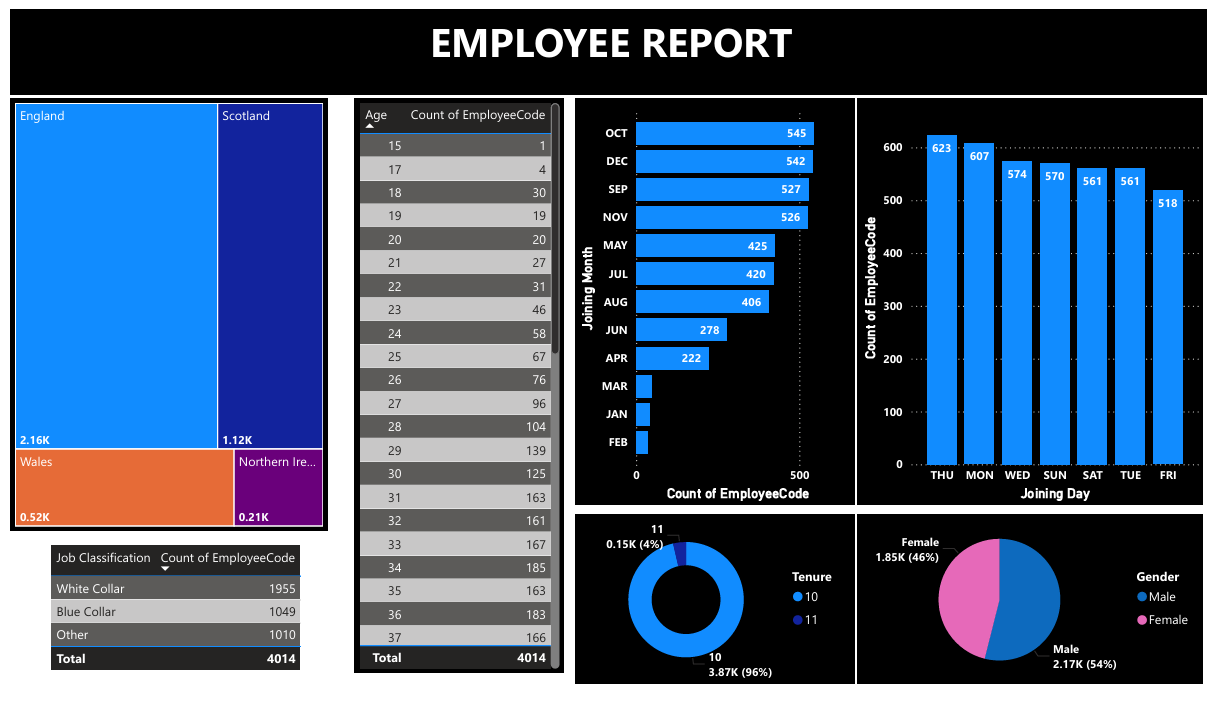

Layout of this report page (visuals, bound fields, positions):
{"tool":"powerbi","page":{"name":"Page 1","canvas":[1280,720],"ordinal":0},"visuals":[{"type":"pieChart","fields":{"Category":["Copy of Dataset_Assignmen2.Gender"],"Y":["CountNonNull(Copy of Dataset_Assignmen2.EmployeeCode)"]},"box":[902.7,538.6,368.1,181.3],"z":0},{"type":"donutChart","fields":{"Y":["CountNonNull(Copy of Dataset_Assignmen2.EmployeeCode)"],"Category":["Copy of Dataset_Assignmen2.Tenure"]},"box":[602.2,538.6,297.7,181.3],"z":1},{"type":"barChart","fields":{"Category":["Copy of Dataset_Assignmen2.Joining Month"],"Y":["CountNonNull(Copy of Dataset_Assignmen2.EmployeeCode)"]},"box":[602.2,94.7,297.7,434.4],"z":2},{"type":"columnChart","fields":{"Category":["Copy of Dataset_Assignmen2.Joining Day"],"Y":["CountNonNull(Copy of Dataset_Assignmen2.EmployeeCode)"]},"box":[902.7,94.7,368.1,434.4],"z":3},{"type":"treemap","fields":{"Group":["Copy of Dataset_Assignmen2.Region"],"Values":["CountNonNull(Copy of Dataset_Assignmen2.EmployeeCode)"]},"box":[0,94.7,338.3,461.5],"z":4},{"type":"tableEx","fields":{"Values":["Copy of Dataset_Assignmen2.Job Classification","Copy of Dataset_Assignmen2.EmployeeCode"]},"box":[37.9,567.1,282.9,152.9],"z":5},{"type":"tableEx","fields":{"Values":["Copy of Dataset_Assignmen2.Age","CountNonNull(Copy of Dataset_Assignmen2.EmployeeCode)"]},"box":[366.8,94.7,223.3,613.1],"z":6},{"type":"textbox","box":[0,0,1280.3,90.7],"z":7}]}

Visuals, with their boxes in screenshot pixels (x1, y1, x2, y2):
pieChart - Copy of Dataset_Assignmen2.Gender x CountNonNull(Copy of Dataset_Assignmen2.EmployeeCode): detection(852, 507, 1194, 676)
donutChart - CountNonNull(Copy of Dataset_Assignmen2.EmployeeCode) x Copy of Dataset_Assignmen2.Tenure: detection(573, 507, 849, 676)
barChart - Copy of Dataset_Assignmen2.Joining Month x CountNonNull(Copy of Dataset_Assignmen2.EmployeeCode): detection(573, 94, 849, 498)
columnChart - Copy of Dataset_Assignmen2.Joining Day x CountNonNull(Copy of Dataset_Assignmen2.EmployeeCode): detection(852, 94, 1194, 498)
treemap - Copy of Dataset_Assignmen2.Region x CountNonNull(Copy of Dataset_Assignmen2.EmployeeCode): detection(13, 94, 327, 524)
tableEx - Copy of Dataset_Assignmen2.Job Classification x Copy of Dataset_Assignmen2.EmployeeCode: detection(48, 534, 311, 676)
tableEx - Copy of Dataset_Assignmen2.Age x CountNonNull(Copy of Dataset_Assignmen2.EmployeeCode): detection(354, 94, 561, 664)
textbox: detection(13, 6, 1203, 91)
